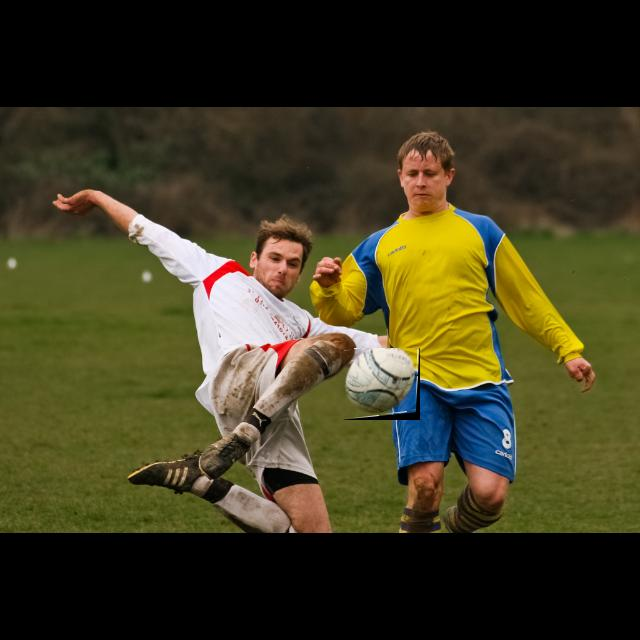Football: (344, 348, 420, 420)
